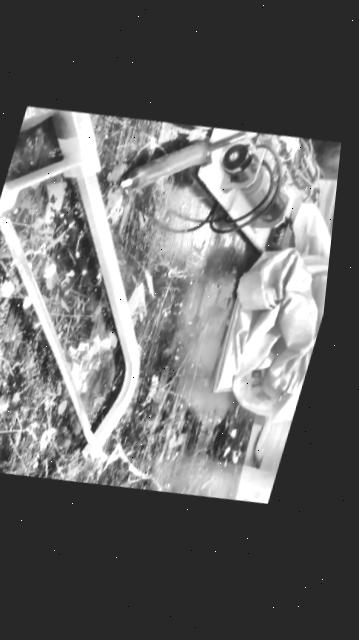pot: (289, 135, 342, 194)
